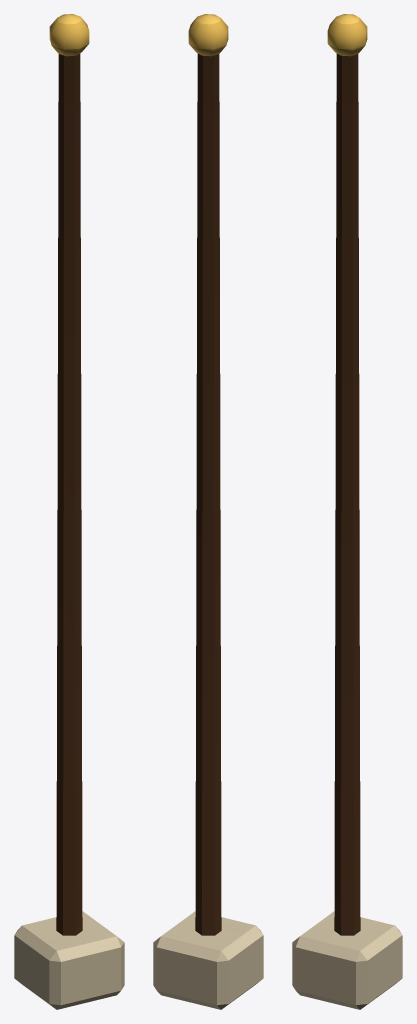
Rendered from city_banner_pole.glb.
3 views of the same model, side by side, from view 1: azimuth 30°, elevation 25°; view 2: azimuth 150°, elevation 25°; view 3: azimuth 330°, elevation 25° (orthographic).
Parts seen in each view (by area): view 1: city_banner_pole; view 2: city_banner_pole; view 3: city_banner_pole.
Part boxes in pixels (bbox=[...]): city_banner_pole: bbox=[14, 14, 124, 1009]; city_banner_pole: bbox=[153, 14, 263, 1009]; city_banner_pole: bbox=[292, 14, 402, 1009].
Size of the model in its own units: 0.08 by 0.99 by 0.08.
